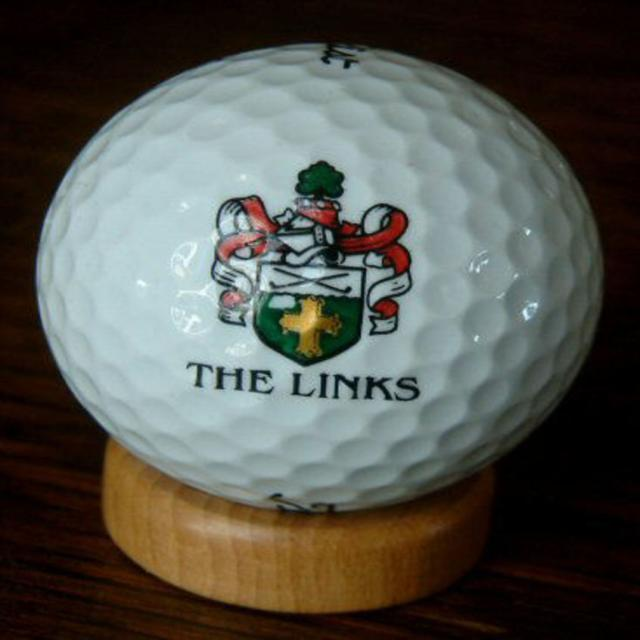Ball: (36, 42, 605, 513)
